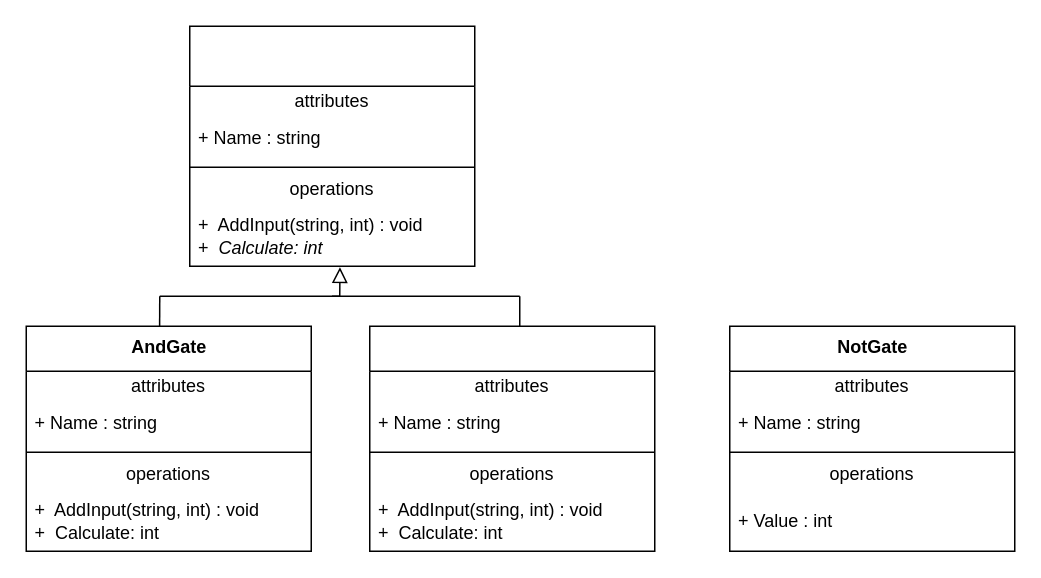
This 1041x578 diagram has some shape labels left out. The shapes that lost their labels are listed below. From the top down, each one's box as (x1, y1, x2, y2) in pixels, then its label:
(188, 25, 475, 266): {abstract} LogicGate
(368, 325, 655, 551): OrGate
